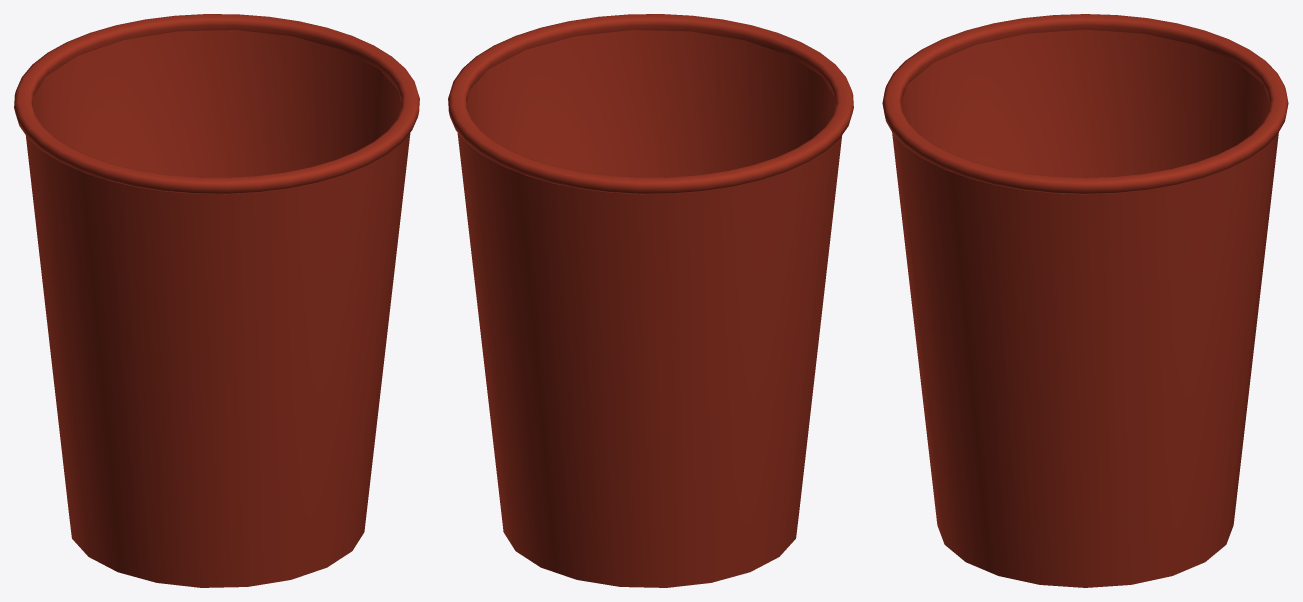
File: cup.glb
3 views of the same model, side by side, from view 1: azimuth 30°, elevation 25°; view 2: azimuth 150°, elevation 25°; view 3: azimuth 270°, elevation 25° (orthographic).
Parts seen in each view (by area): view 1: Object_2; view 2: Object_2; view 3: Object_2.
Boxes of the visible parts, box(x1,y1,x2,y2) form: Object_2: box(14, 14, 419, 587); Object_2: box(448, 14, 853, 587); Object_2: box(882, 14, 1288, 587).
Size of the model in its own units: 3.25 by 3.77 by 3.25.
